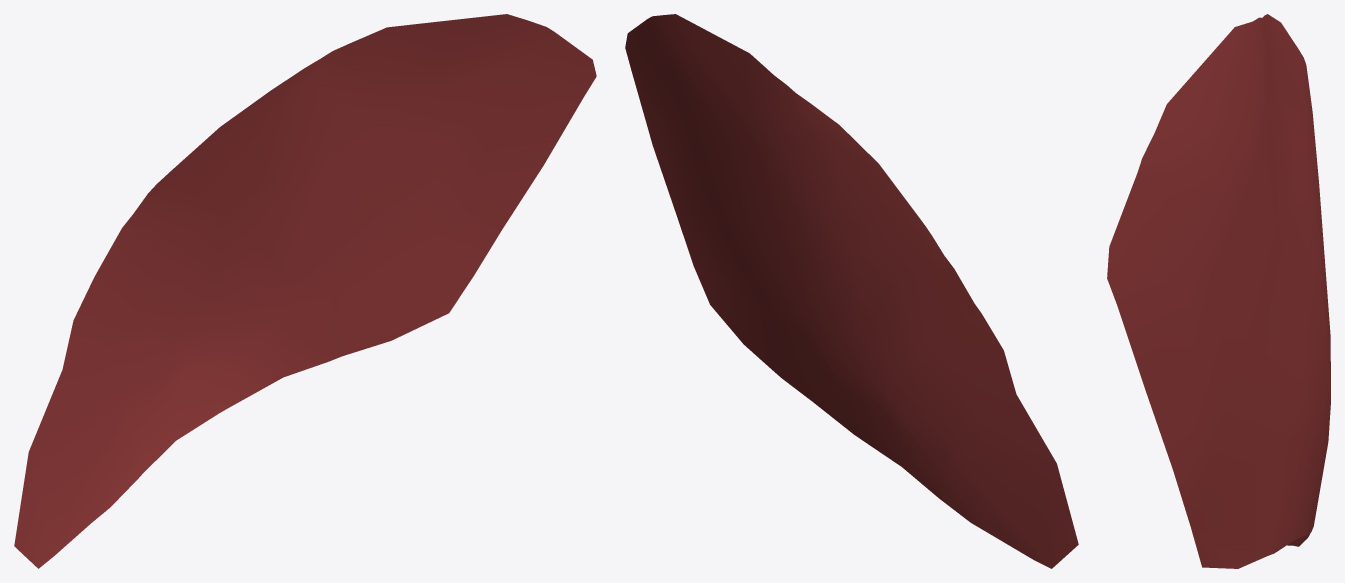
File: levatores-longi-costarum-e8r.glb
3 views of the same model, side by side, from view 1: azimuth 30°, elevation 25°; view 2: azimuth 150°, elevation 25°; view 3: azimuth 270°, elevation 25° (orthographic). The views are drawn at different scales.
Visible parts, largest first — view 1: Levatores longi costarum.e8r; view 2: Levatores longi costarum.e8r; view 3: Levatores longi costarum.e8r.
Boxes of the visible parts, left/top/right/bottom form: Levatores longi costarum.e8r: left=14, top=14, right=596, bottom=568; Levatores longi costarum.e8r: left=625, top=14, right=1078, bottom=568; Levatores longi costarum.e8r: left=1107, top=14, right=1330, bottom=568.
Bounding box in the file's own units: 0.0163 × 0.0136 × 0.00345.
